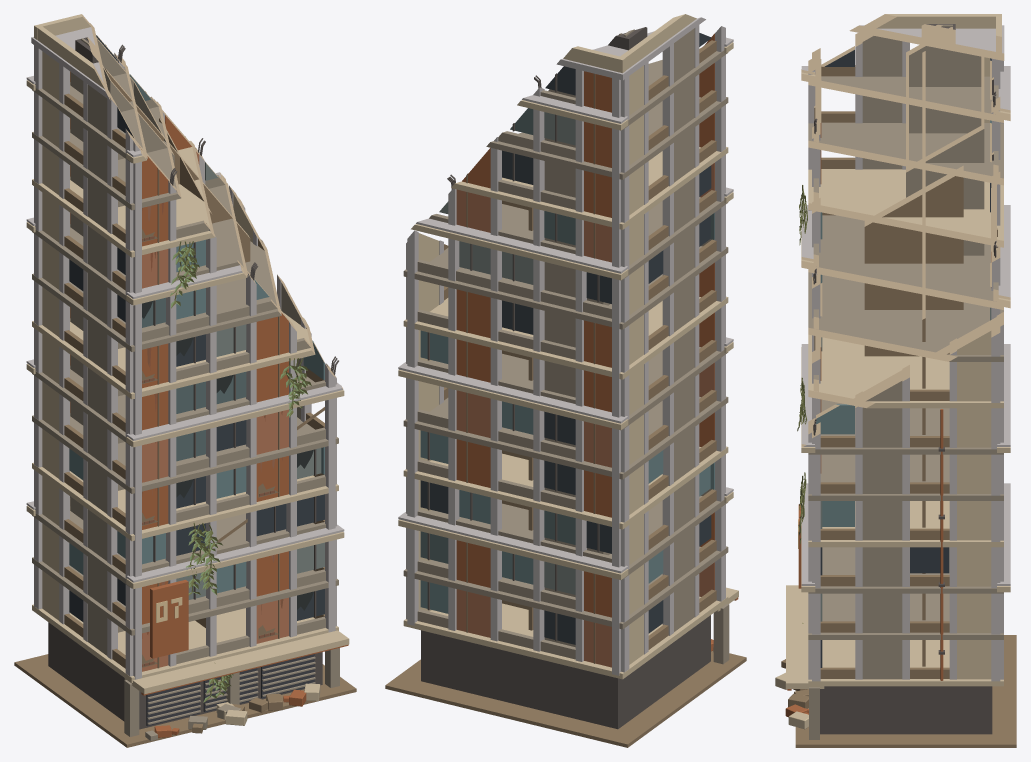
File: 斜断高楼.glb
3 views of the same model, side by side, from view 1: azimuth 30°, elevation 25°; view 2: azimuth 150°, elevation 25°; view 3: azimuth 270°, elevation 25° (orthographic). The views are drawn at different scales.
Visible parts, largest first — view 1: Infill, Concrete frame, Podium, Brise soleil, Roof, Overgrowth, Service details, Loose masonry; view 2: Infill, Concrete frame, Podium, Brise soleil, Roof; view 3: Concrete frame, Infill, Podium, Brise soleil, Roof, Service details, Loose masonry, Overgrowth.
Part boxes in pixels (x1,y1,x2,y2): Infill: (42, 35, 336, 679); Concrete frame: (32, 38, 338, 682); Podium: (14, 622, 356, 747); Brise soleil: (26, 55, 344, 588); Roof: (31, 14, 110, 100); Overgrowth: (170, 241, 311, 702); Service details: (150, 579, 188, 658); Loose masonry: (145, 683, 320, 740); Infill: (407, 25, 725, 675); Concrete frame: (403, 48, 728, 679); Podium: (385, 587, 746, 747); Brise soleil: (398, 37, 733, 579); Roof: (556, 14, 705, 80); Concrete frame: (808, 44, 1003, 686); Infill: (808, 30, 1003, 681); Podium: (786, 585, 1016, 747); Brise soleil: (801, 66, 1010, 592); Roof: (849, 14, 1004, 60); Service details: (798, 409, 944, 680); Loose masonry: (775, 659, 808, 729); Overgrowth: (797, 185, 807, 623).
Size of the model in its own units: 16 by 42.81 by 14.85.
